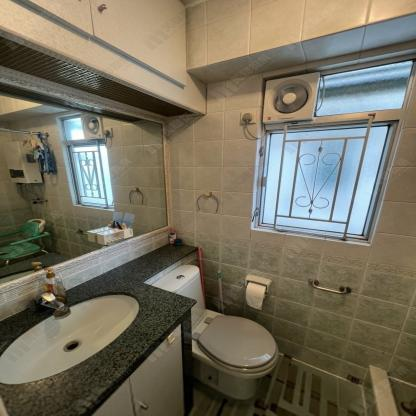Exhaust Fan: (259, 70, 320, 124)
Toilet: (151, 263, 281, 399)
Toilet Sink: (0, 270, 196, 416)
